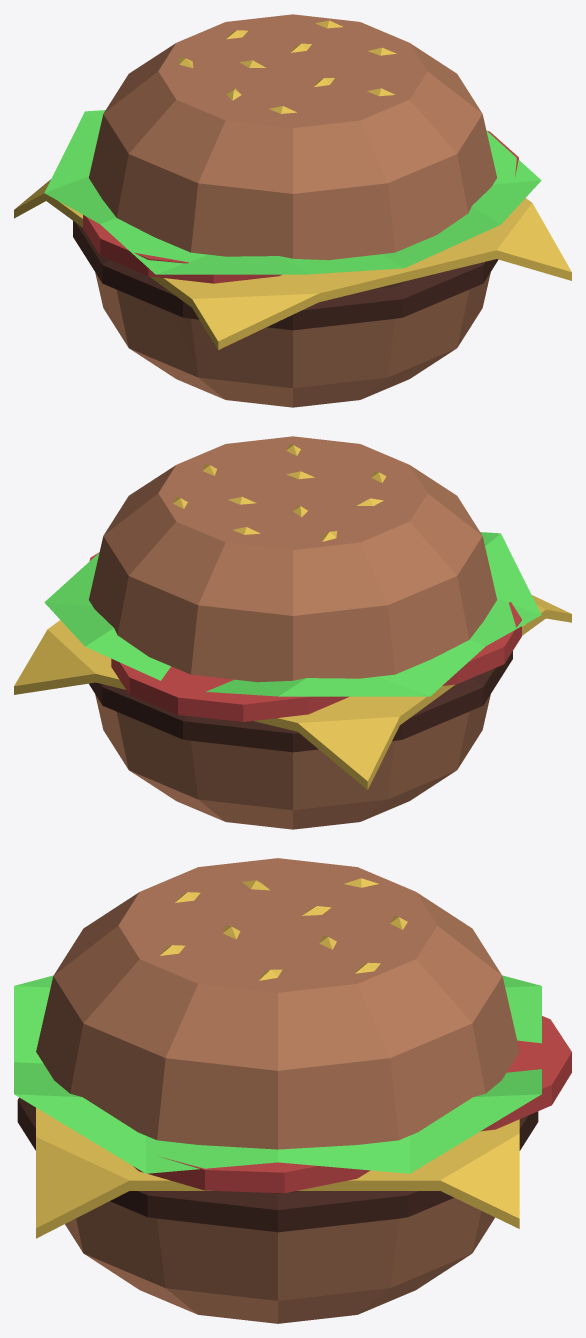
Rendered from Hamburger.glb.
3 renders of one model, top to bottom at view 1: azimuth 30°, elevation 25°; view 2: azimuth 150°, elevation 25°; view 3: azimuth 270°, elevation 25°, orthographic. The views are drawn at different scales.
Parts seen in each view (by area): view 1: Hamburger; view 2: Hamburger; view 3: Hamburger.
Part boxes in pixels (x1=…): Hamburger: x1=14, y1=14, x2=571, y2=407; Hamburger: x1=14, y1=436, x2=571, y2=829; Hamburger: x1=14, y1=858, x2=571, y2=1323.
Bounding box in the file's own units: 0.1066 × 0.0721 × 0.1083.
1 material, 1 textured.
